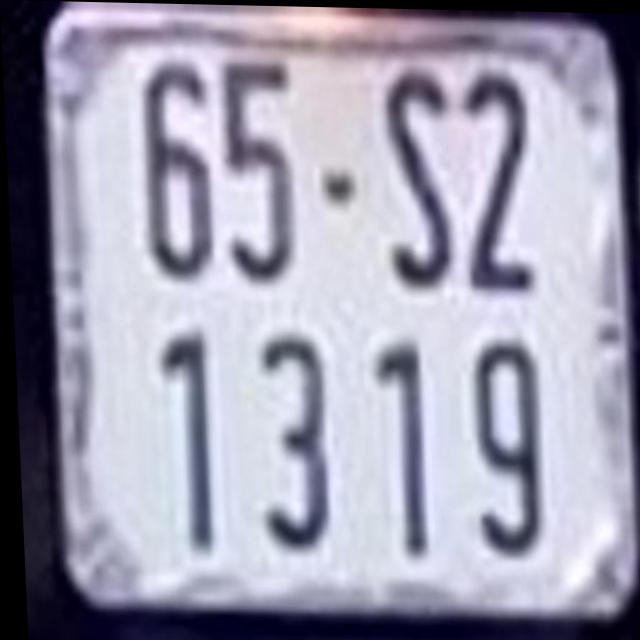1: (361, 341, 446, 562), (152, 324, 219, 554)
2: (461, 73, 546, 283)
3: (248, 333, 334, 544)
5: (218, 57, 300, 283)
6: (139, 62, 222, 280)
9: (470, 338, 540, 549)
S: (382, 65, 456, 283)
